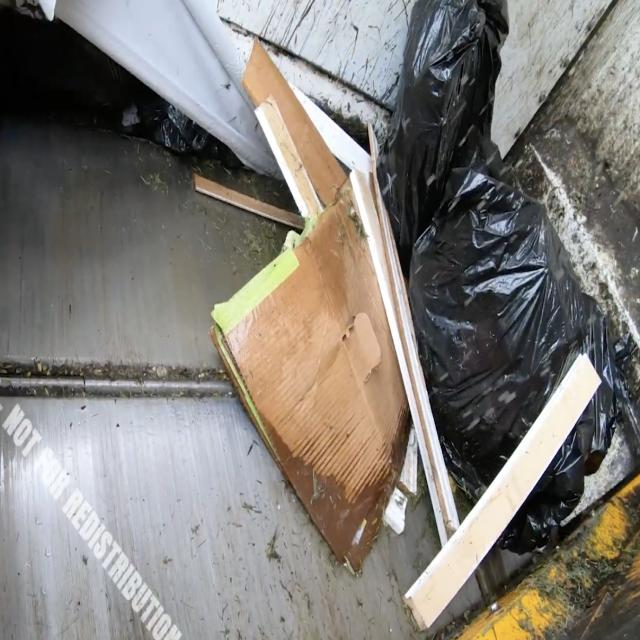bag: (352, 4, 634, 508)
cardboard: (174, 6, 433, 619)
furniture: (398, 370, 612, 621)
